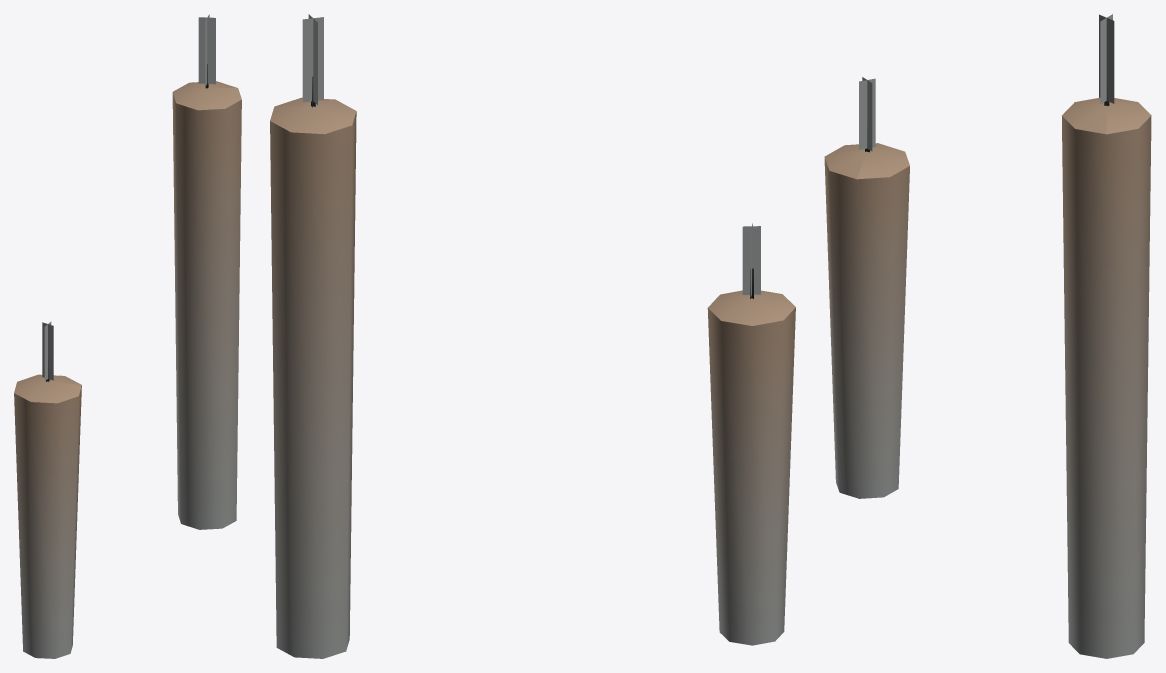
3 renders of one model, left to right at view 1: azimuth 30°, elevation 25°; view 2: azimuth 150°, elevation 25°; view 3: azimuth 270°, elevation 25°, orthographic. The views are drawn at different scales.
Parts seen in each view (by area): view 1: G:\FFXIV-MapTools\exports\x6f1\bg\ex5\01_xkt_x6\fld\x6f1\bgp (×2); view 2: G:\FFXIV-MapTools\exports\x6f1\bg\ex5\01_xkt_x6\fld\x6f1\bgp (×2); view 3: G:\FFXIV-MapTools\exports\x6f1\bg\ex5\01_xkt_x6\fld\x6f1\bgp (×2).
Part boxes in pixels (x1,y1,x2,y2): G:\FFXIV-MapTools\exports\x6f1\bg\ex5\01_xkt_x6\fld\x6f1\bgp (×2): (14,14,241,658); G:\FFXIV-MapTools\exports\x6f1\bg\ex5\01_xkt_x6\fld\x6f1\bgp (×2): (270,14,795,658); G:\FFXIV-MapTools\exports\x6f1\bg\ex5\01_xkt_x6\fld\x6f1\bgp (×2): (824,14,1151,658).
Size of the model in its own units: 0.5491 by 0.831 by 0.3939.
